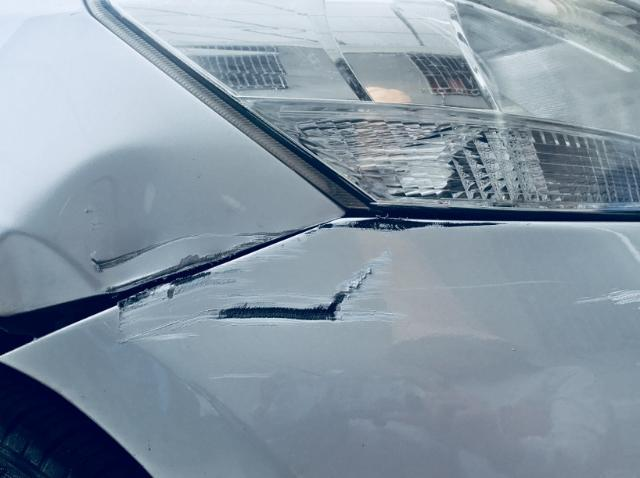Bumper: (3, 89, 640, 478)
